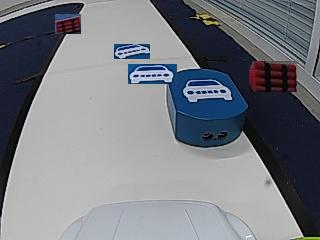safety: (182, 78, 234, 102)
